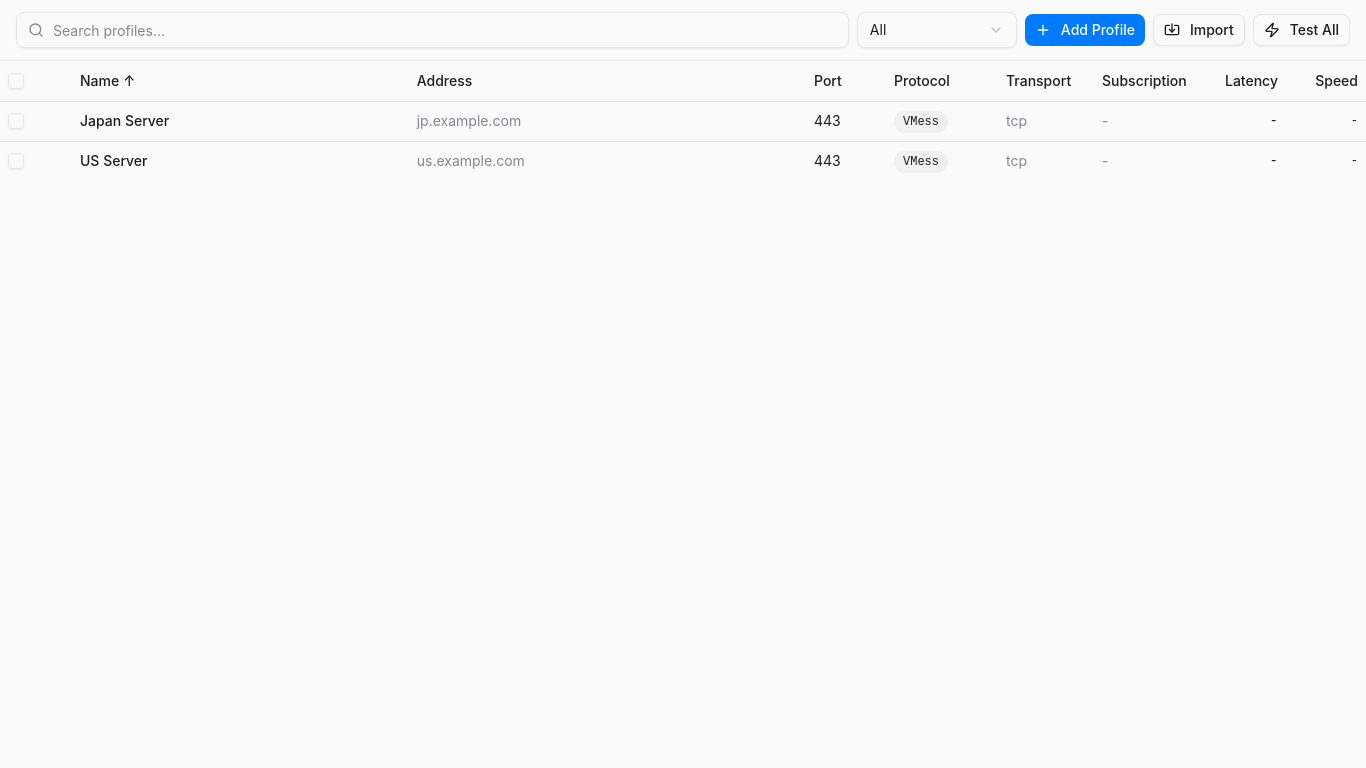
Test: ProfilesPage › opens add profile dialog when clicking Add Profile button
Click the button "Add Profile" at (1085, 30), box [1025,14,1145,46]
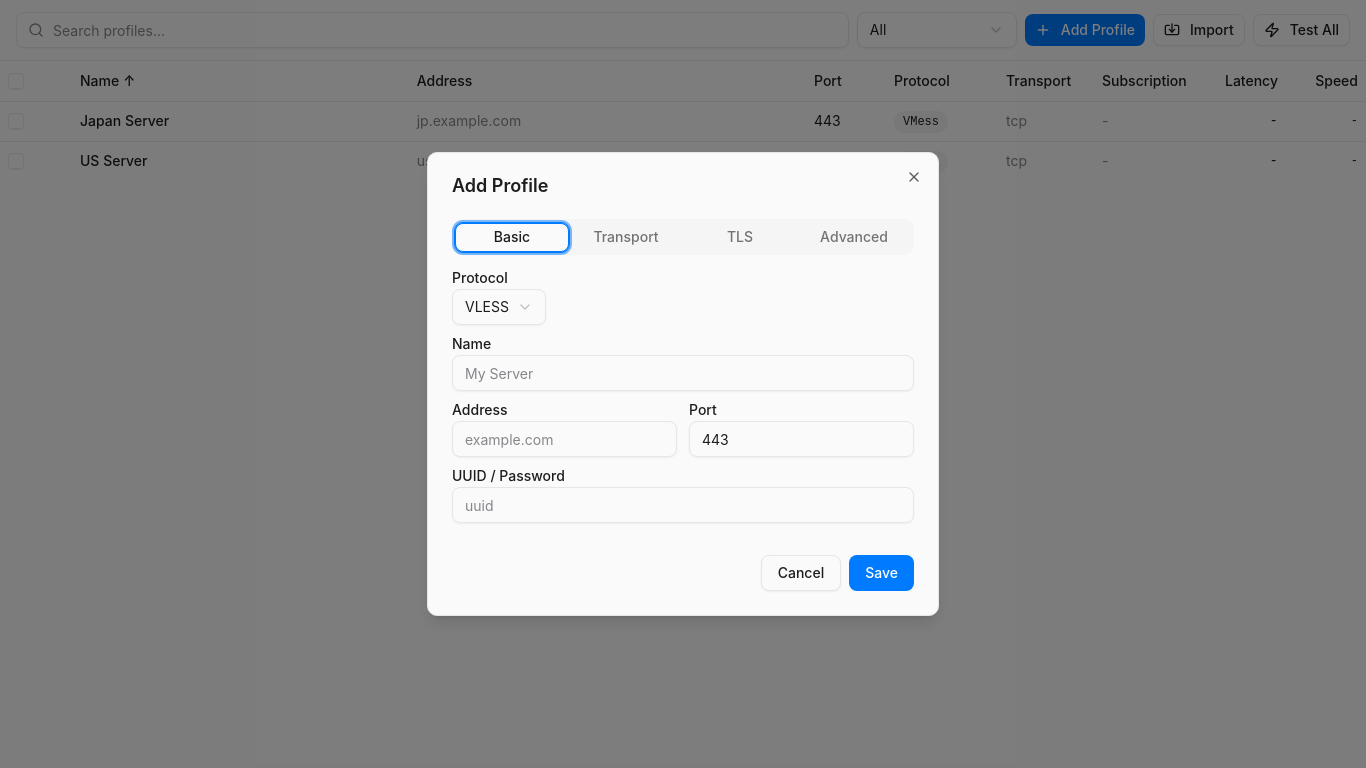
Now the dialog is shown, box [427,152,939,616]
